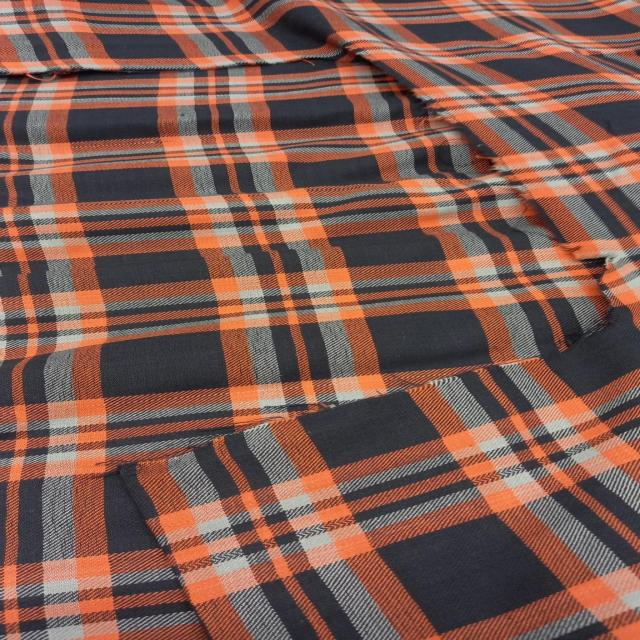cut: (354, 47, 615, 296), (172, 314, 616, 454), (98, 455, 225, 624), (5, 59, 334, 79)
